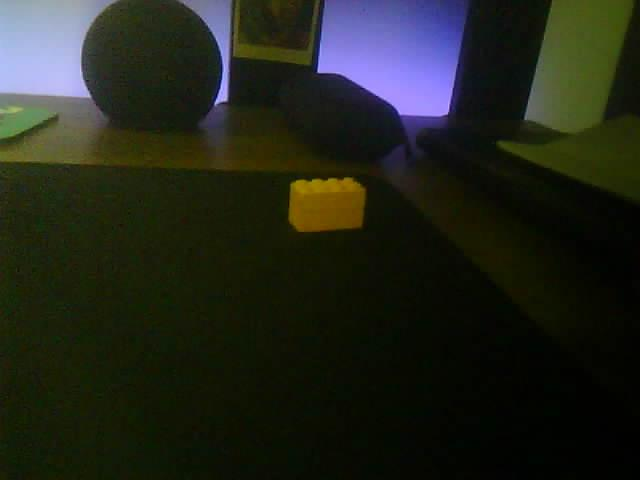lego: (287, 176, 367, 232)
